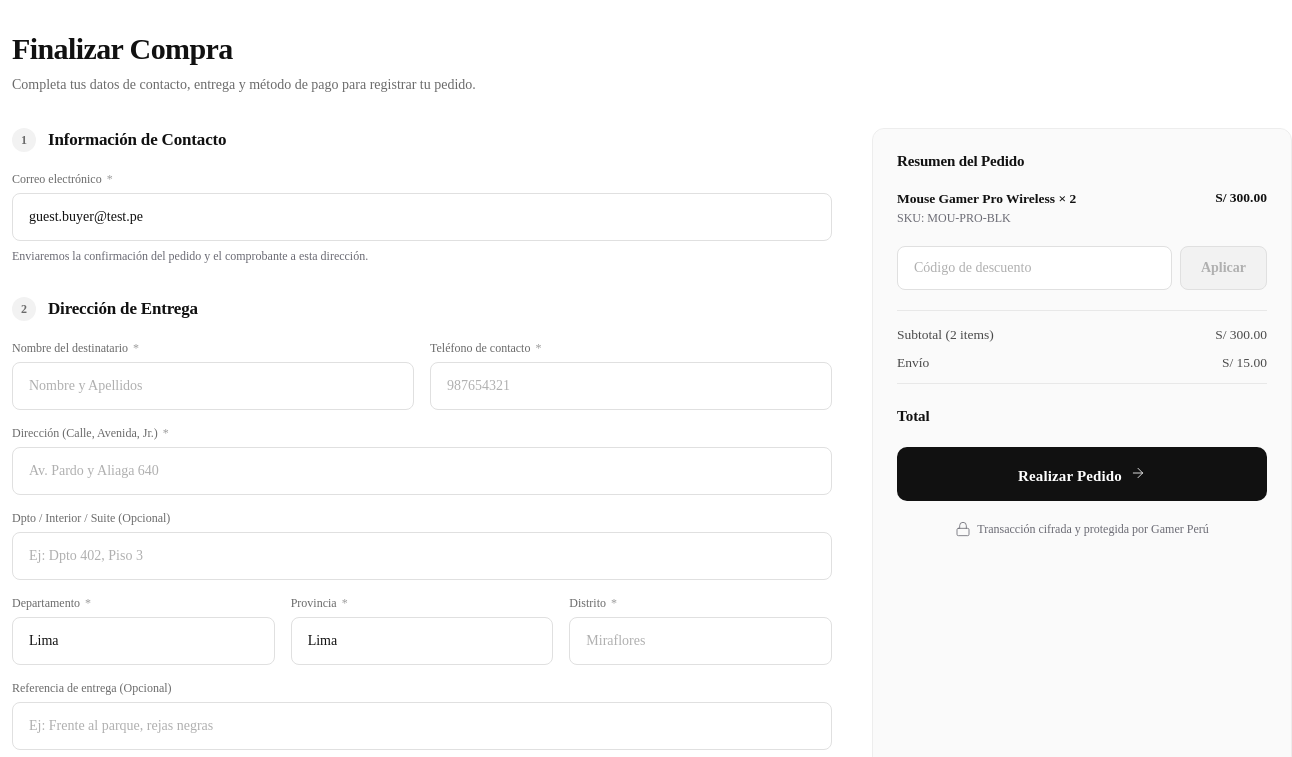
Scenario: GP-018 / CHK6-BR3 — Explicit Selection & Fail-Closed Checkout Suite › 9. Idempotency & Address Recoveries › recovers safely from ADDRESS_UNAVAILABLE by clearing selected address
The width and height of the screenshot is (1292, 757).
Type "Maria Quispe" into the field with test id "checkout-input-recipient-name" at (213, 386), box [12, 362, 414, 410]
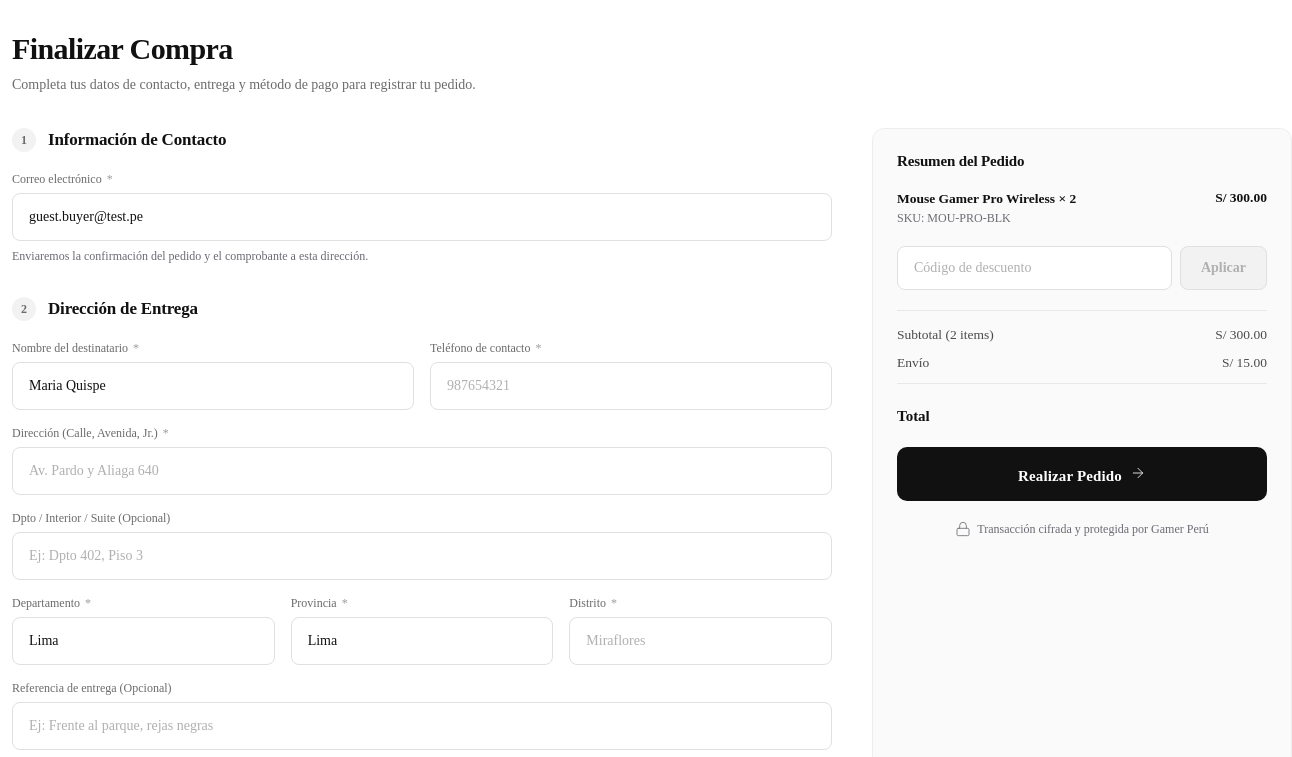
Type "998877665" into the field with test id "checkout-input-phone" at (631, 386), box [430, 362, 832, 410]
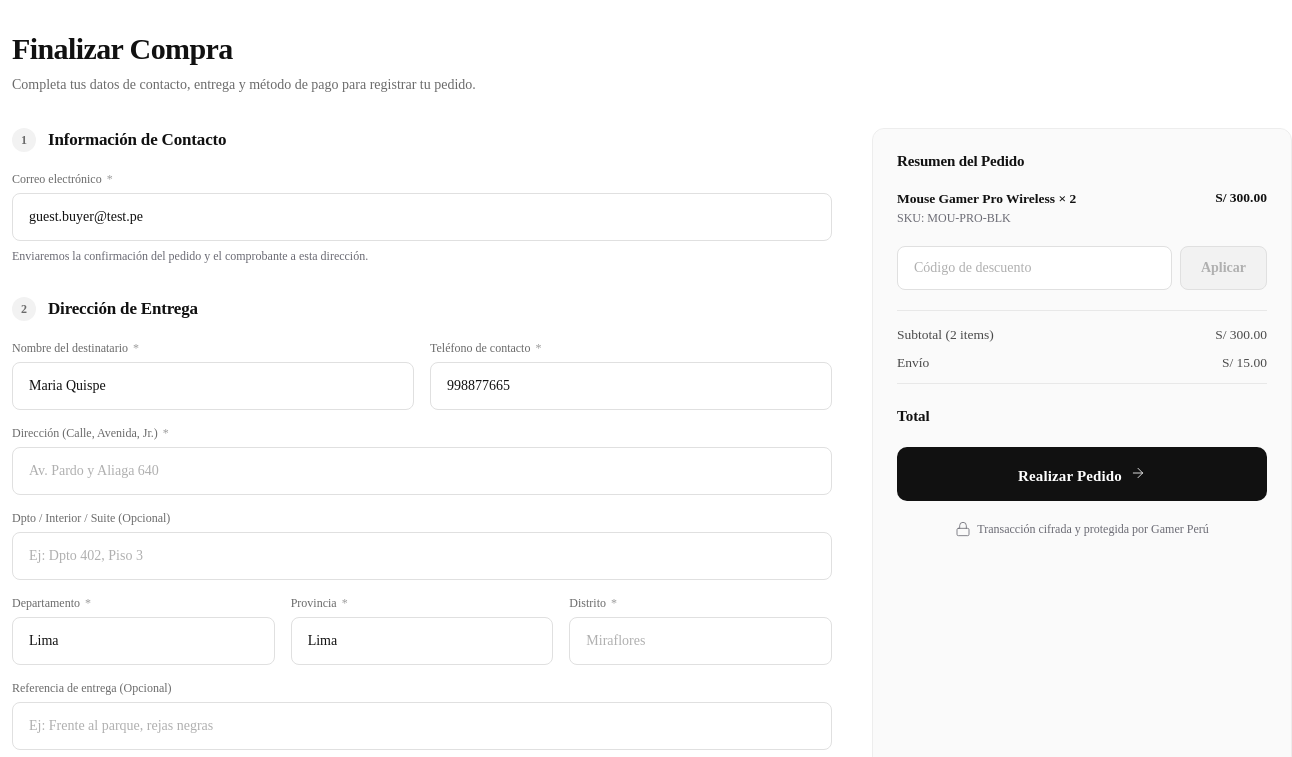
Type "Jr. Union 100" into the field with test id "checkout-input-street-address" at (422, 471), box [12, 447, 832, 495]
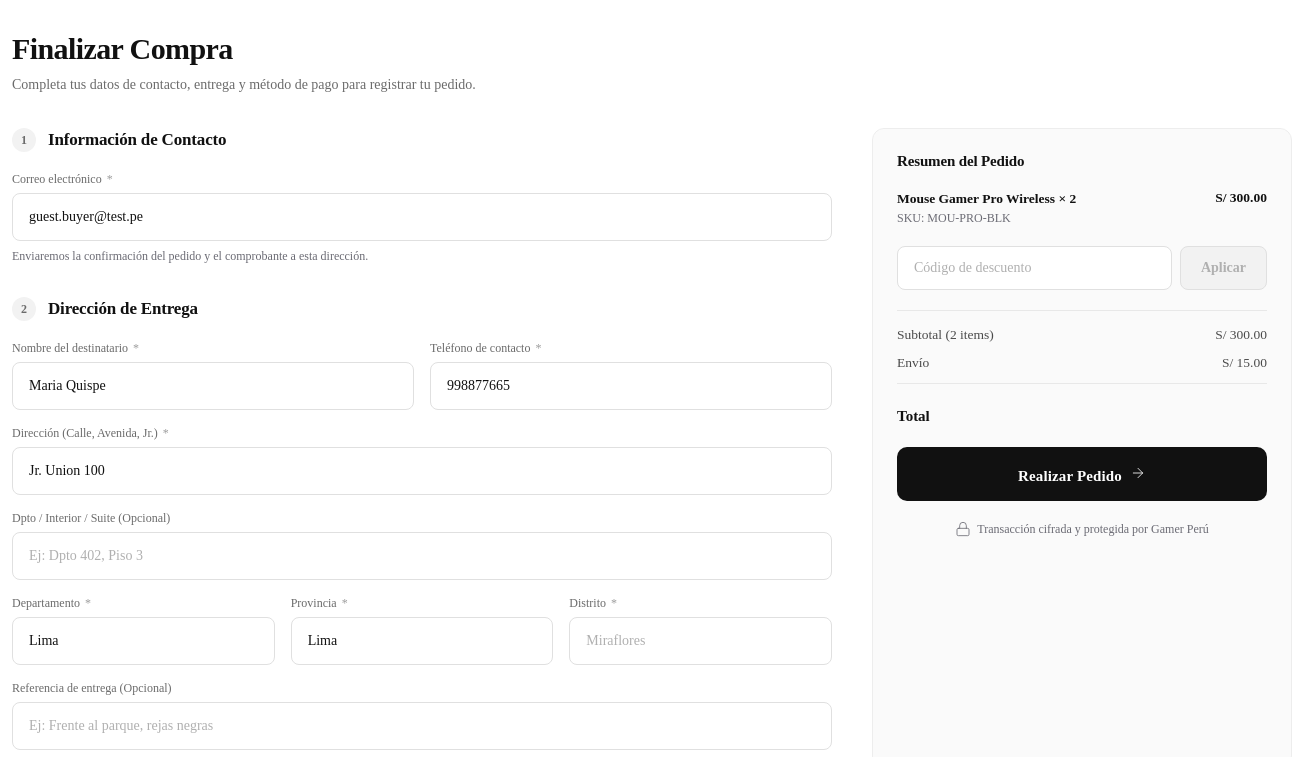
Type "Cercado de Lima" into the field with test id "checkout-input-district" at (701, 641), box [569, 617, 832, 665]
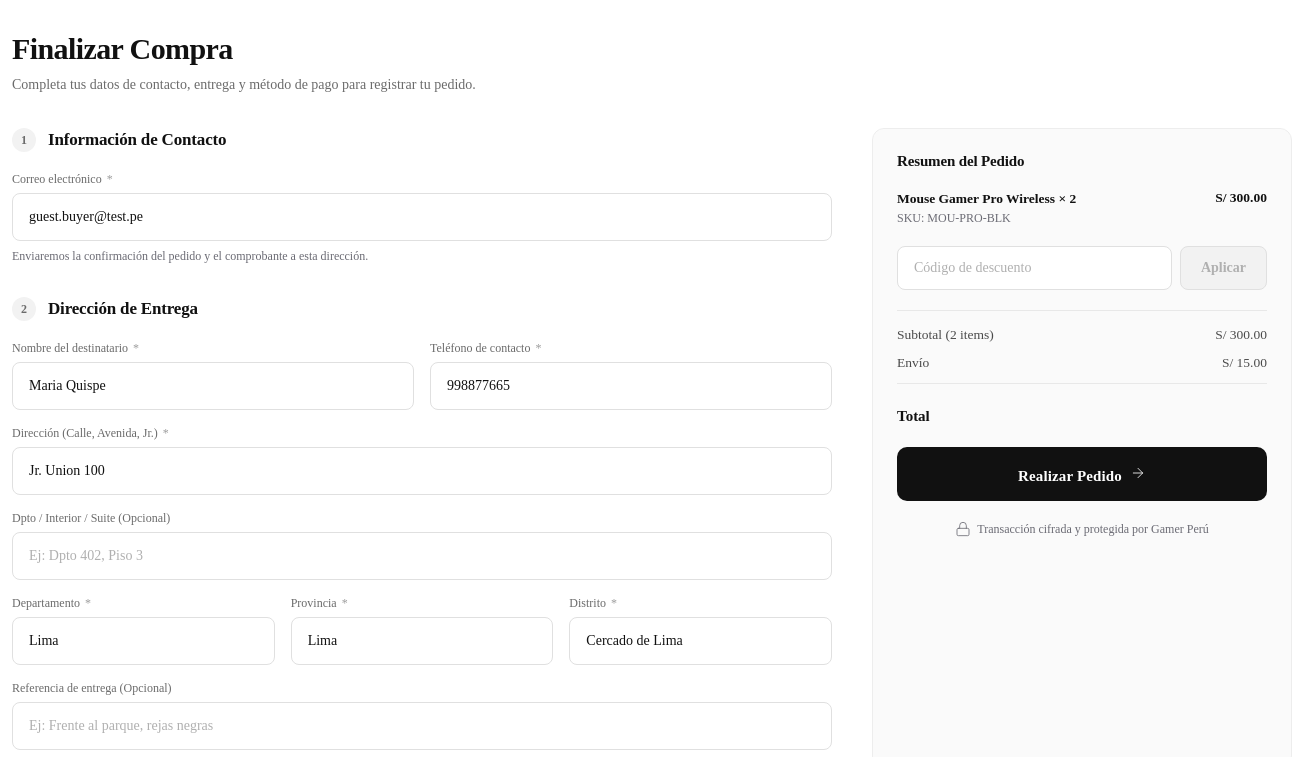
Click the button with test id "checkout-submit-button" at (1082, 474), box [897, 447, 1267, 501]
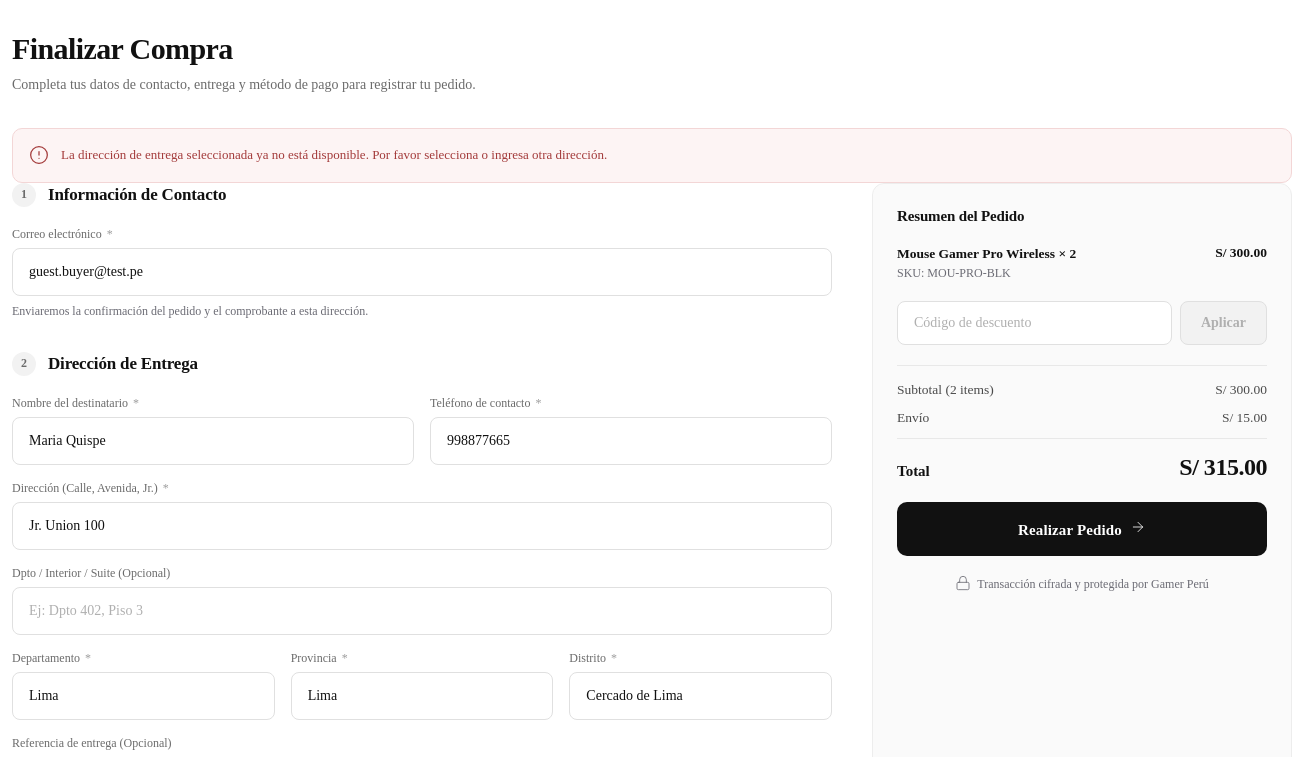
Check: the message with test id "checkout-general-error" is shown, box [12, 128, 1291, 182]
Check: the text "La dirección de entrega seleccionada ya no está disponible" is shown, box [61, 147, 607, 162]
